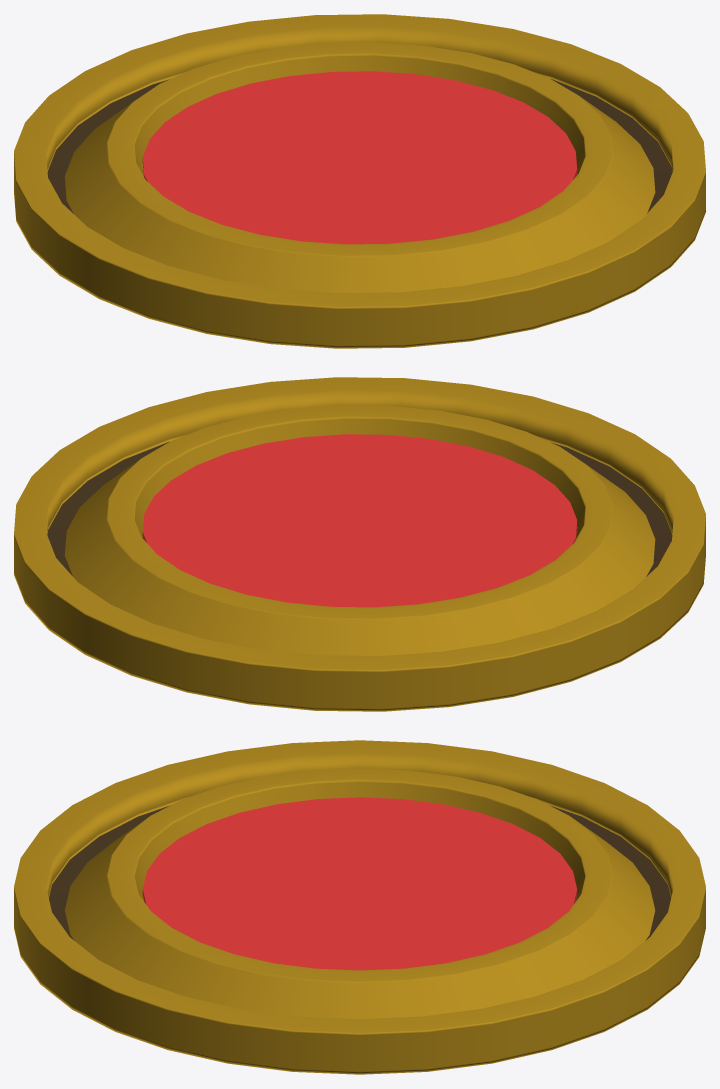
Rendered from checkpoint merah.fbx.
3 renders of one model, top to bottom at view 1: azimuth 30°, elevation 25°; view 2: azimuth 150°, elevation 25°; view 3: azimuth 270°, elevation 25°, orthographic.
Parts seen in each view (by area): view 1: Cylinder, Cylinder.001, Cylinder.002; view 2: Cylinder, Cylinder.001, Cylinder.002; view 3: Cylinder, Cylinder.001, Cylinder.002.
Part boxes in pixels (x1,y1,x2,y2): Cylinder: [14, 14, 705, 348]; Cylinder.001: [142, 71, 577, 244]; Cylinder.002: [64, 42, 655, 292]; Cylinder: [14, 377, 705, 711]; Cylinder.001: [142, 434, 577, 607]; Cylinder.002: [64, 405, 655, 655]; Cylinder: [14, 740, 705, 1074]; Cylinder.001: [142, 797, 577, 970]; Cylinder.002: [64, 768, 655, 1018].
Bounding box in the file's own units: 332 × 28.35 × 332.
